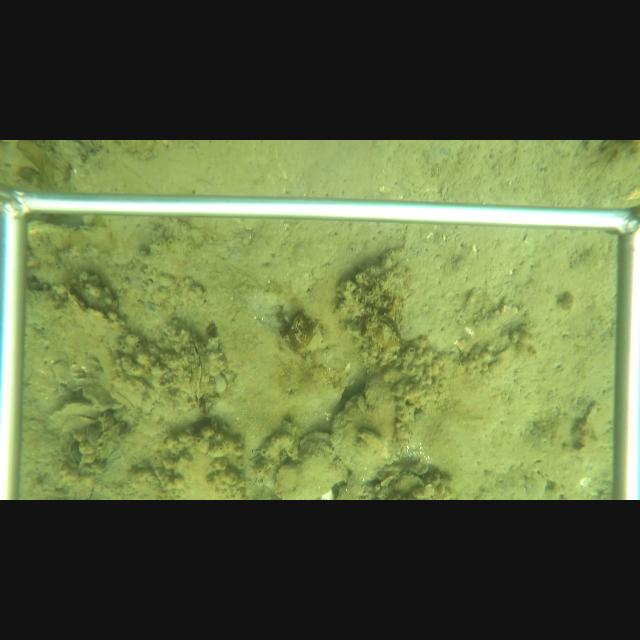Oyster-Closed: (329, 388, 397, 484), (279, 429, 349, 499), (66, 292, 112, 326), (188, 336, 208, 400), (85, 420, 103, 448), (292, 313, 306, 341)
Oyster-Open: (68, 440, 84, 464)
